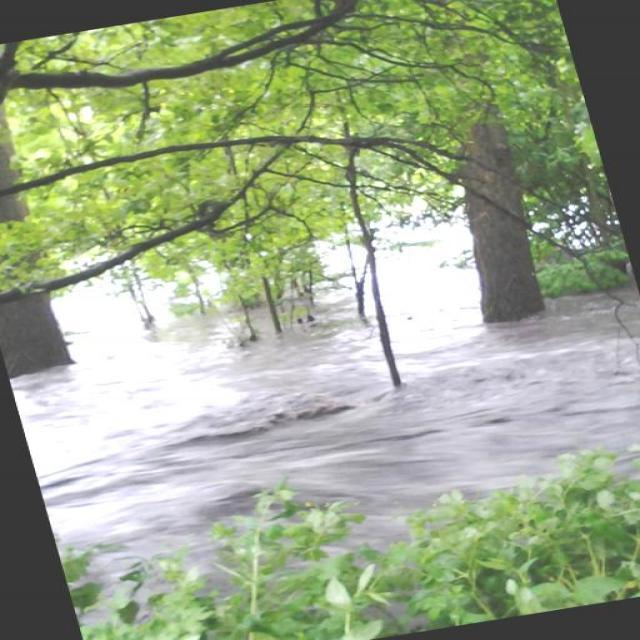flood: (0, 192, 639, 603)
